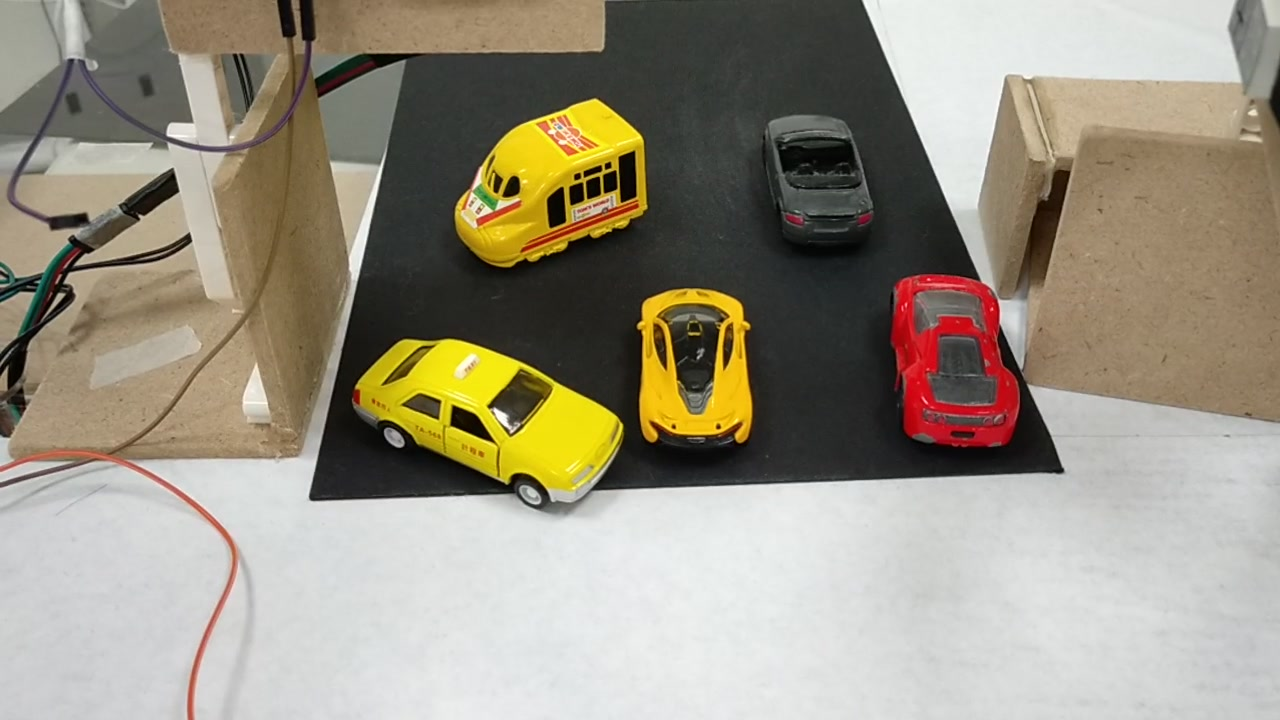car: (348, 334, 625, 520), (887, 270, 1020, 454), (630, 288, 748, 455), (758, 115, 874, 248)
